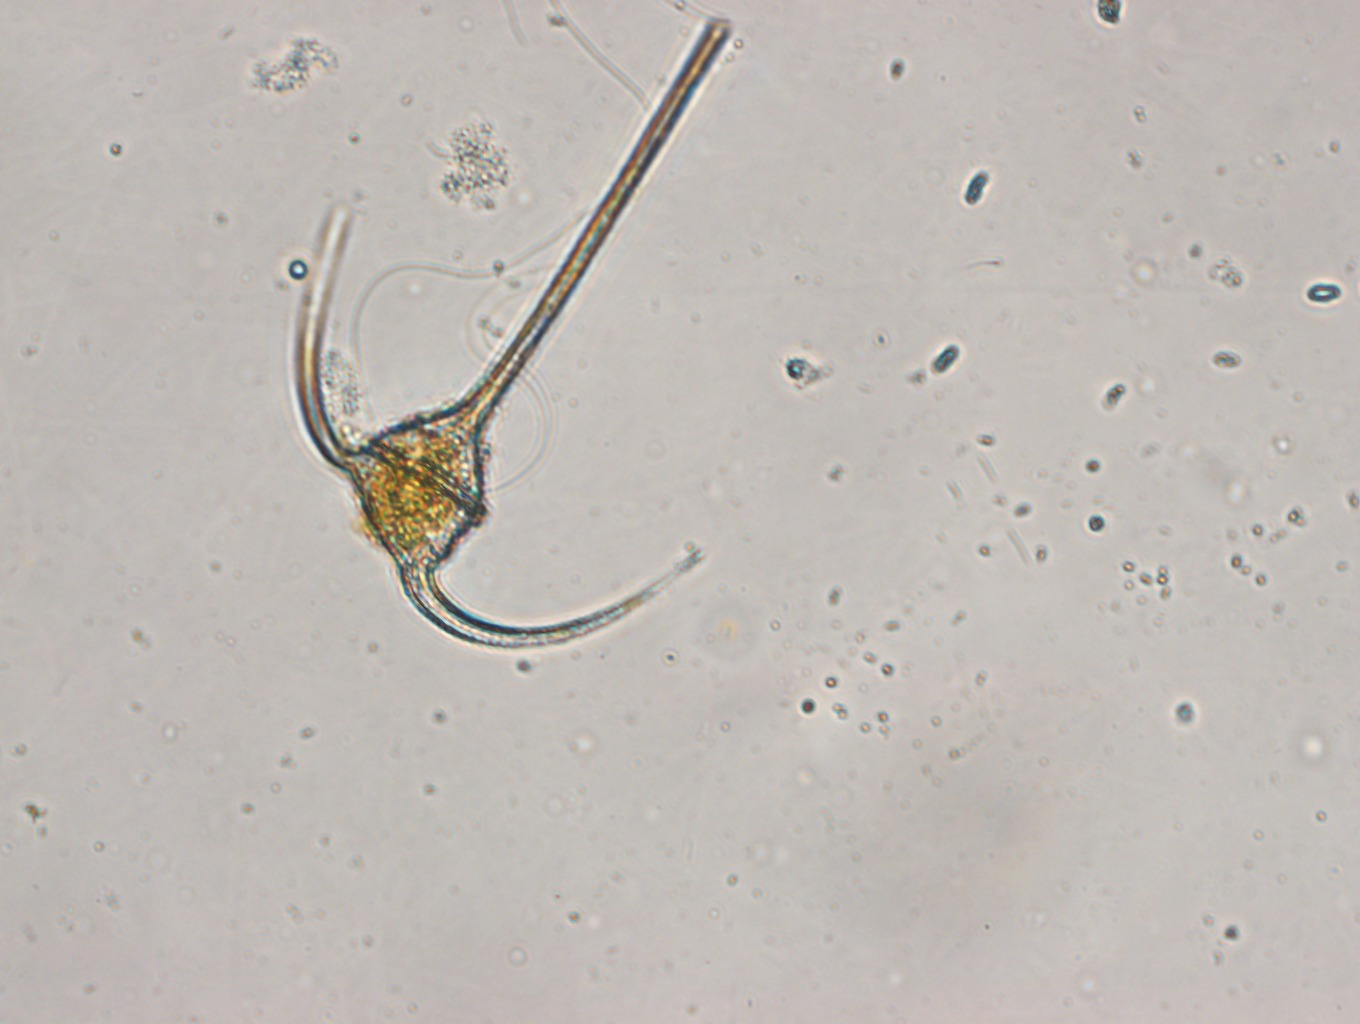ceratium trichoceros: (274, 10, 734, 657)
